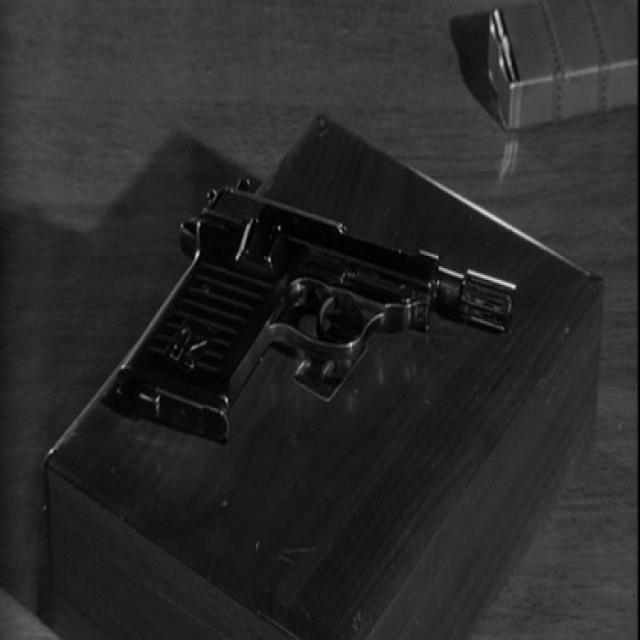weapons: (117, 153, 520, 442)
